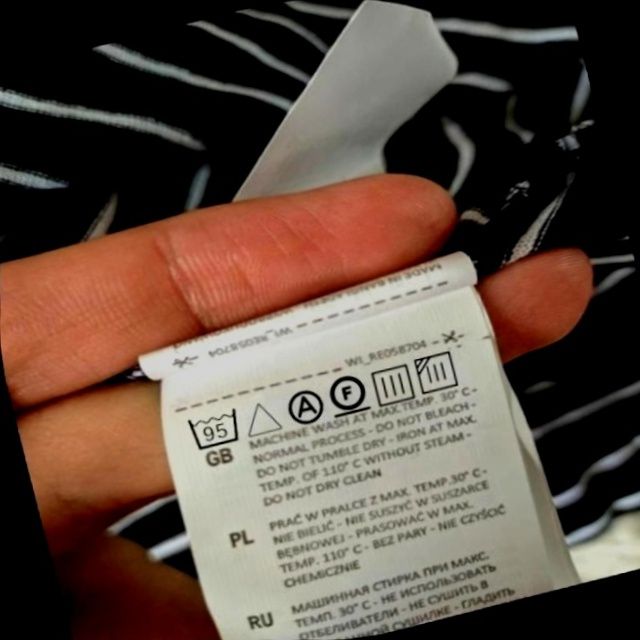95C: (183, 402, 248, 455)
bleach: (239, 392, 284, 442)
drip_dry: (366, 358, 420, 410)
drip_dry_in_shade: (411, 345, 467, 400)
dry_clean: (281, 384, 328, 430)
dry_clean_petrol_only: (323, 366, 373, 421)
